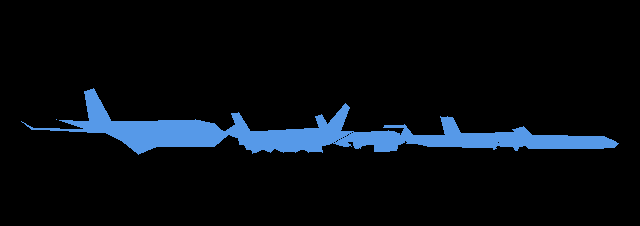Airplane: (21, 88, 228, 154), (224, 103, 354, 153), (383, 116, 501, 149), (440, 116, 531, 150), (512, 126, 618, 149), (333, 130, 405, 151)
